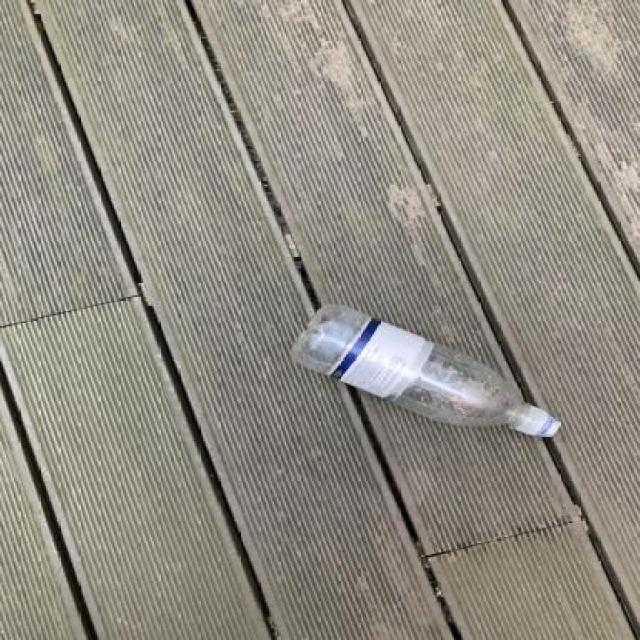trash: (287, 301, 562, 439)
